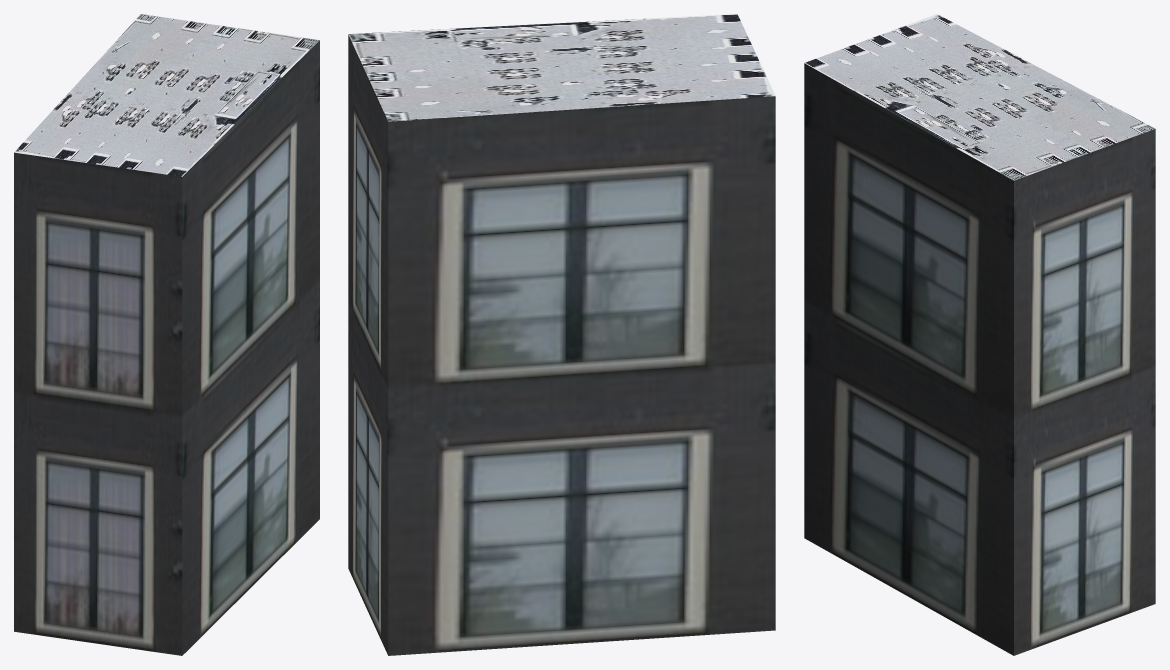
The model's file is ResTex__1558.fbx.
3 views of the same model, side by side, from view 1: azimuth 30°, elevation 25°; view 2: azimuth 150°, elevation 25°; view 3: azimuth 270°, elevation 25° (orthographic). The views are drawn at different scales.
Visible parts, largest first — view 1: CityEngineMaterial_22_m, CityEngineMaterial_4_m; view 2: CityEngineMaterial_22_m, CityEngineMaterial_4_m; view 3: CityEngineMaterial_22_m, CityEngineMaterial_4_m.
Boxes of the visible parts, left/top/right/bottom form: CityEngineMaterial_22_m: left=14, top=40, right=319, bottom=655; CityEngineMaterial_4_m: left=14, top=14, right=319, bottom=176; CityEngineMaterial_22_m: left=348, top=35, right=775, bottom=655; CityEngineMaterial_4_m: left=348, top=14, right=775, bottom=121; CityEngineMaterial_22_m: left=804, top=63, right=1155, bottom=655; CityEngineMaterial_4_m: left=804, top=14, right=1155, bottom=180.
Size of the model in its own units: 4.52 by 6 by 4.02.
2 materials, 2 textured.
